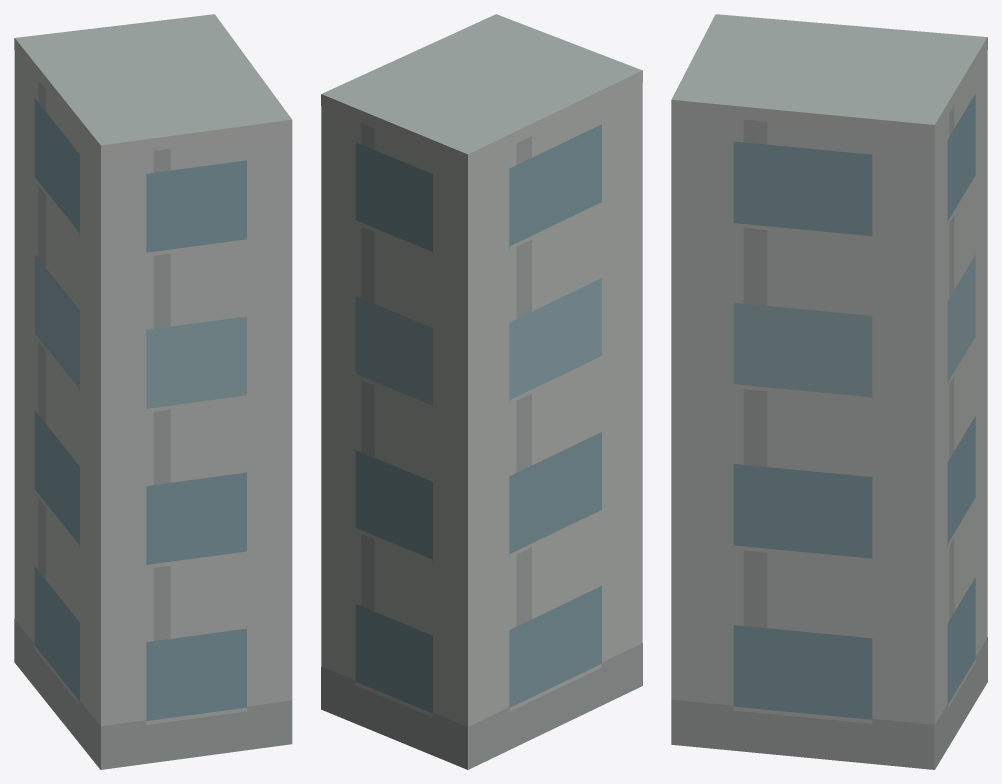
The model's file is survey-upis-32702766.glb.
3 views of the same model, side by side, from view 1: azimuth 30°, elevation 25°; view 2: azimuth 150°, elevation 25°; view 3: azimuth 270°, elevation 25° (orthographic). The views are drawn at different scales.
Visible parts, largest first — view 1: survey-upis-32702766.tmp; view 2: survey-upis-32702766.tmp; view 3: survey-upis-32702766.tmp.
Boxes of the visible parts, x1=… form: survey-upis-32702766.tmp: x1=14, y1=14, x2=292, y2=769; survey-upis-32702766.tmp: x1=321, y1=14, x2=642, y2=769; survey-upis-32702766.tmp: x1=671, y1=14, x2=987, y2=769.
Bounding box in the file's own units: 4.51 × 12.2 × 5.43.
